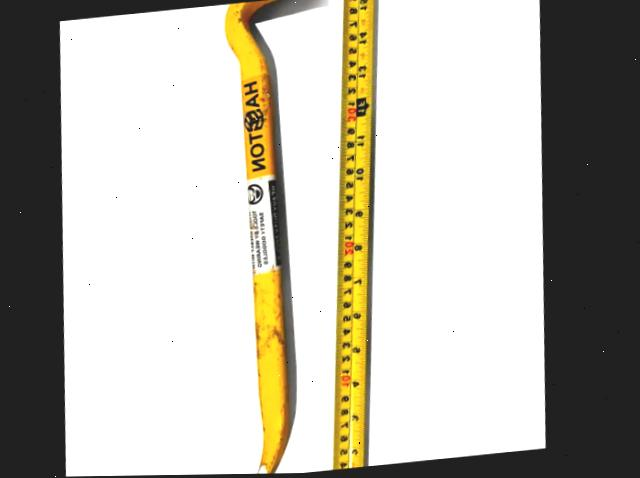crow bar: (221, 0, 301, 475)
